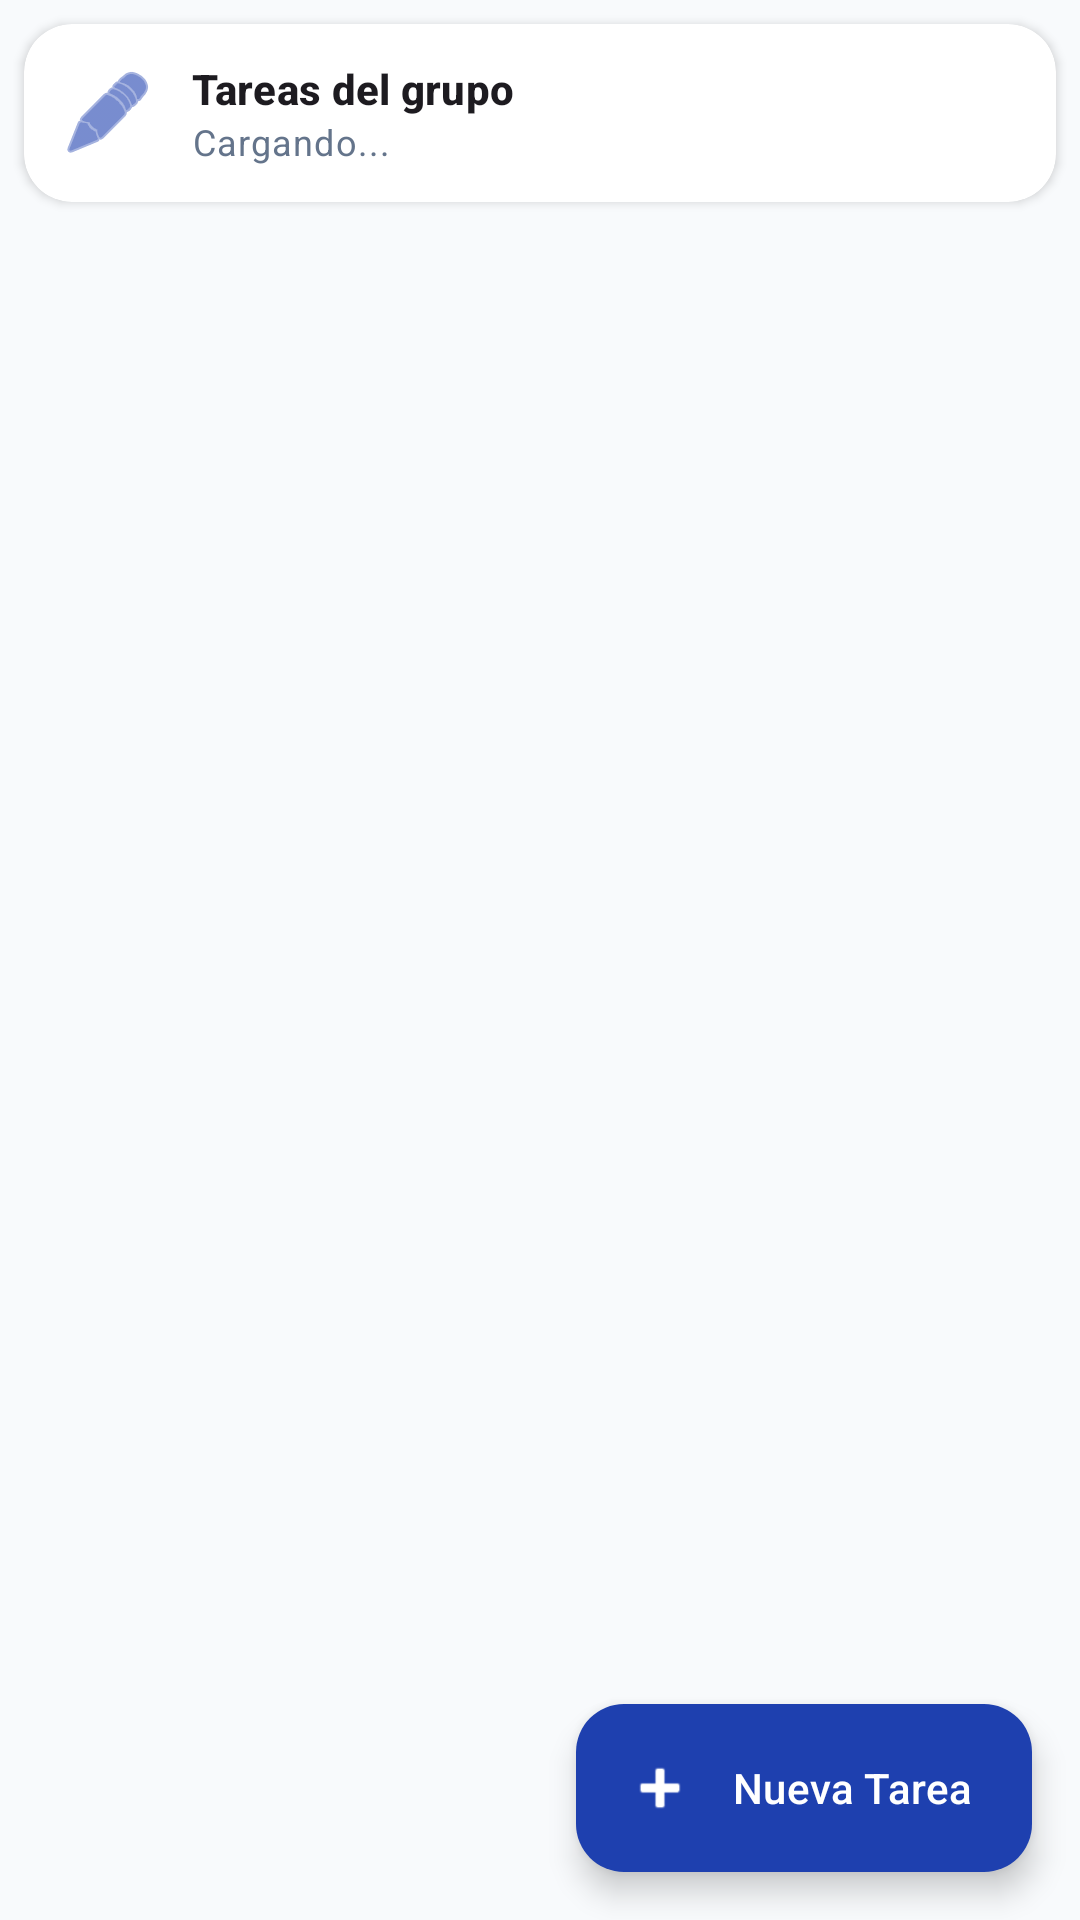

Screen size 1080×1920. Icon name, then its box in pixels as box(x1, y1, x2, y2):
edit: box(67, 72, 148, 153)
